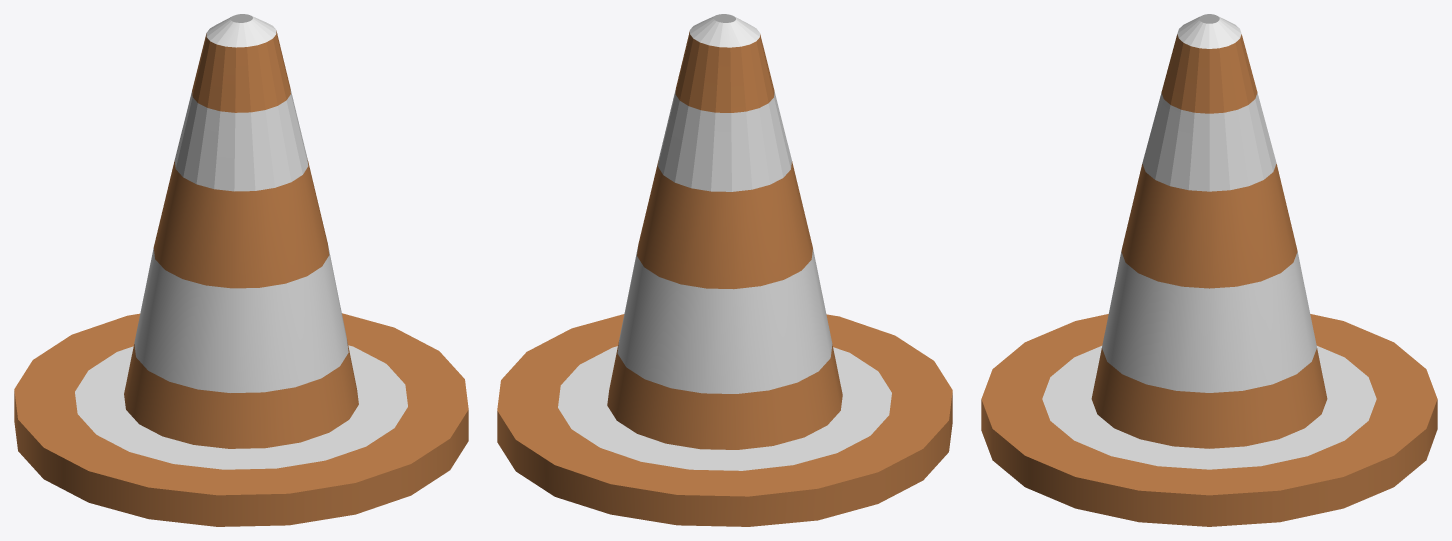
Rendered from Obstalce.fbx.
3 views of the same model, side by side, from view 1: azimuth 30°, elevation 25°; view 2: azimuth 150°, elevation 25°; view 3: azimuth 270°, elevation 25° (orthographic).
Parts seen in each view (by area): view 1: pCylinder1; view 2: pCylinder1; view 3: pCylinder1.
Boxes of the visible parts, box(x1,y1,x2,y2) form: pCylinder1: box(14, 14, 468, 526); pCylinder1: box(497, 14, 952, 526); pCylinder1: box(981, 14, 1437, 526).
Bounding box in the file's own units: 2.73 × 2.72 × 2.73.
